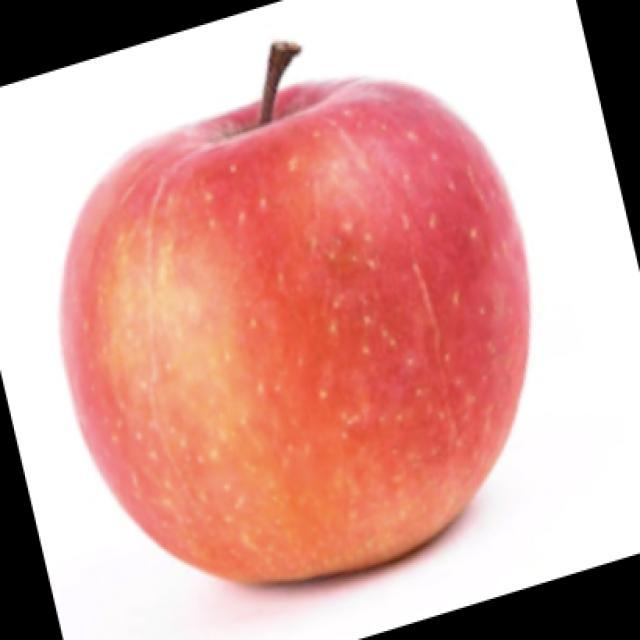Fresh Apple: (57, 70, 535, 563)
